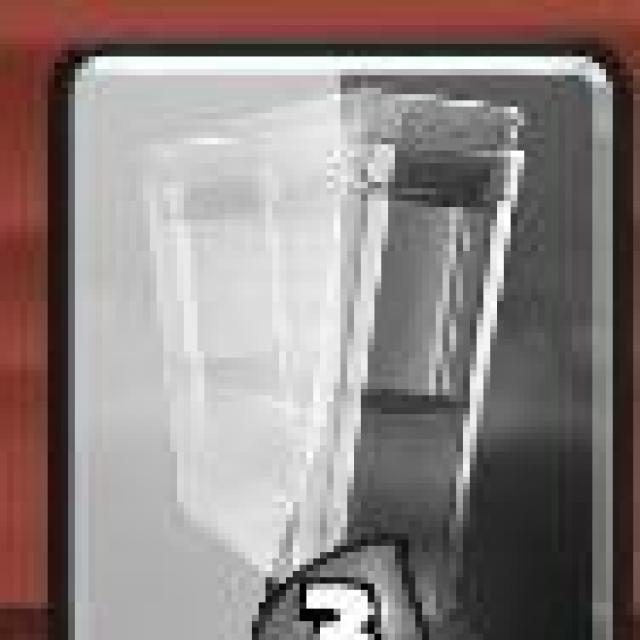Clone_Spell: (45, 37, 628, 640)
